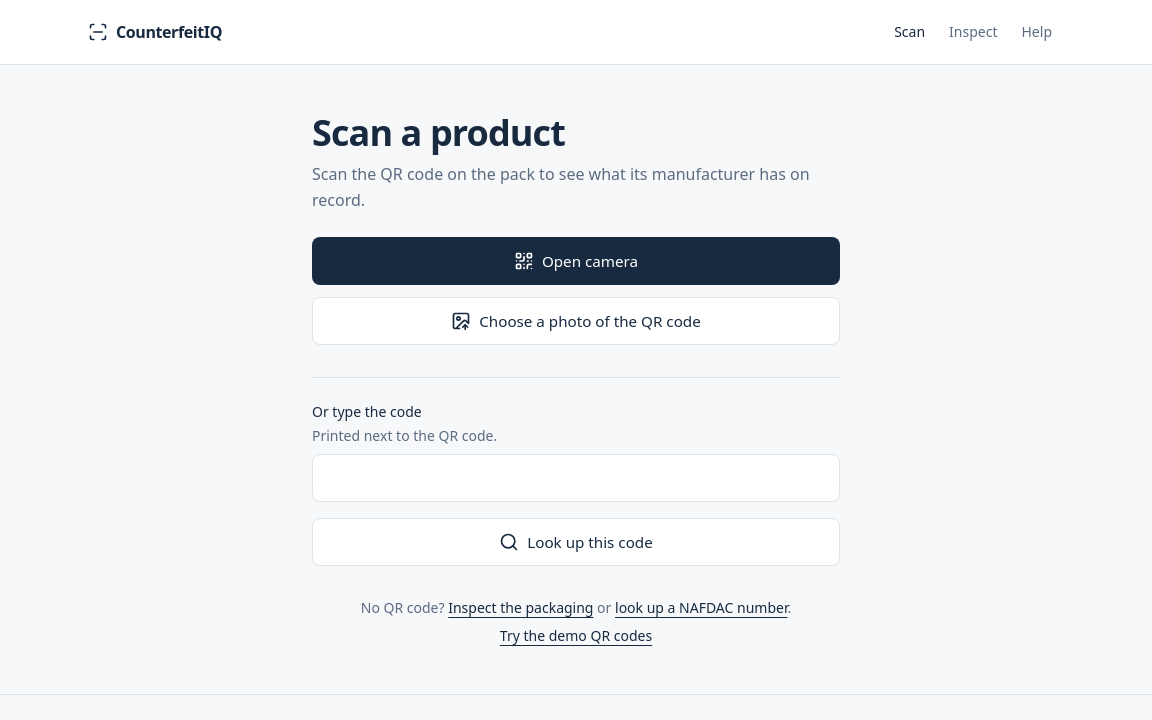
Test case: scanning › explains a camera failure and keeps the fallbacks
Click the button "Open camera" at (576, 261), box [312, 237, 840, 285]
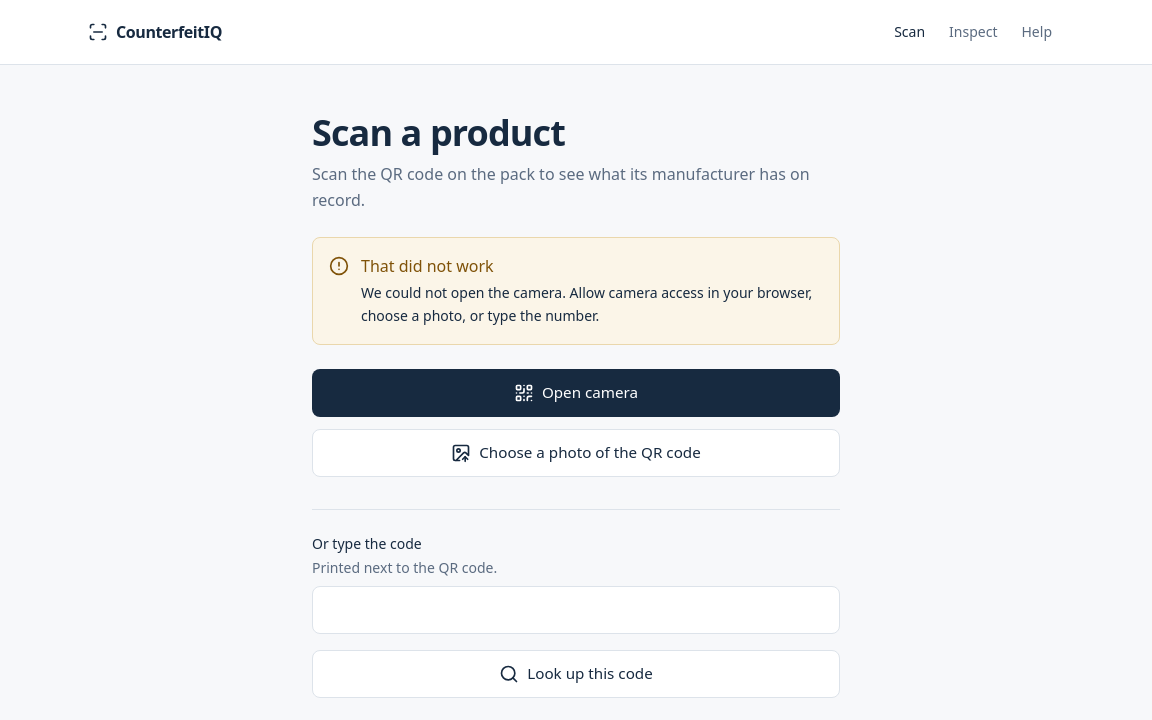
Expected: the field labelled "Or type the code" is shown, [312, 586, 840, 634]
Now the message shows "We could not open the camera", box [361, 283, 812, 325]
